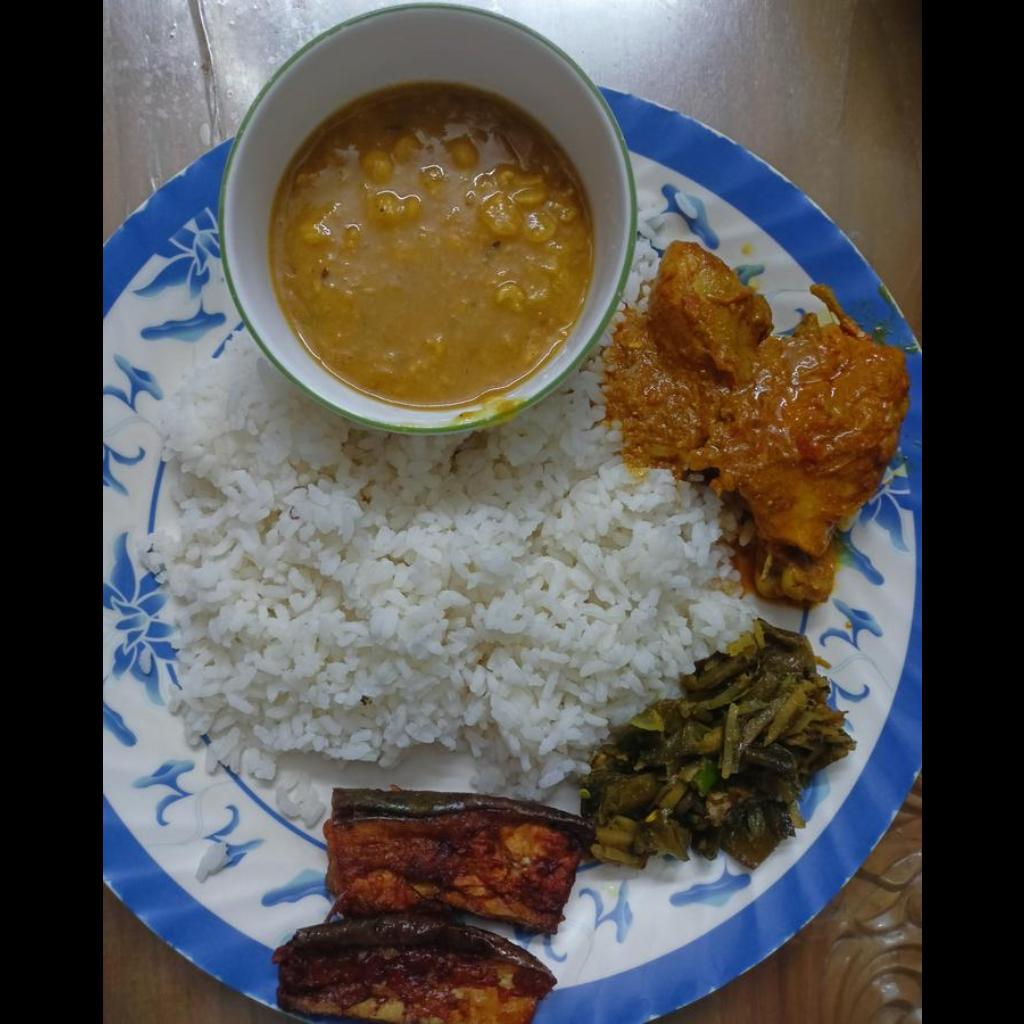begun-vaji: (273, 788, 588, 1023)
chicken: (603, 240, 908, 602)
daal: (272, 83, 588, 404)
rice: (138, 337, 746, 785)
vaji: (581, 622, 852, 867)
